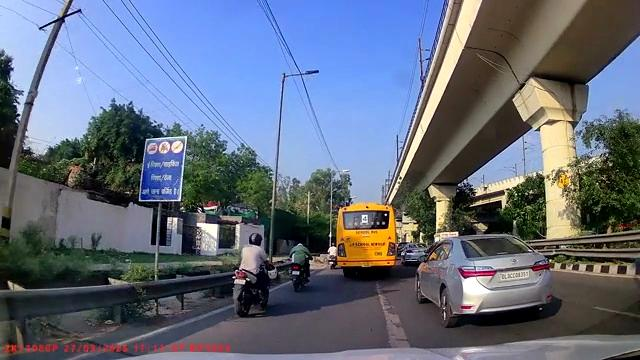motorcycle_with_helmet: (228, 232, 270, 317)
motorcycle_without_helmet: (285, 236, 312, 293)
